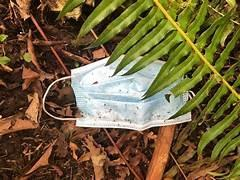Mask: (71, 58, 190, 130)
